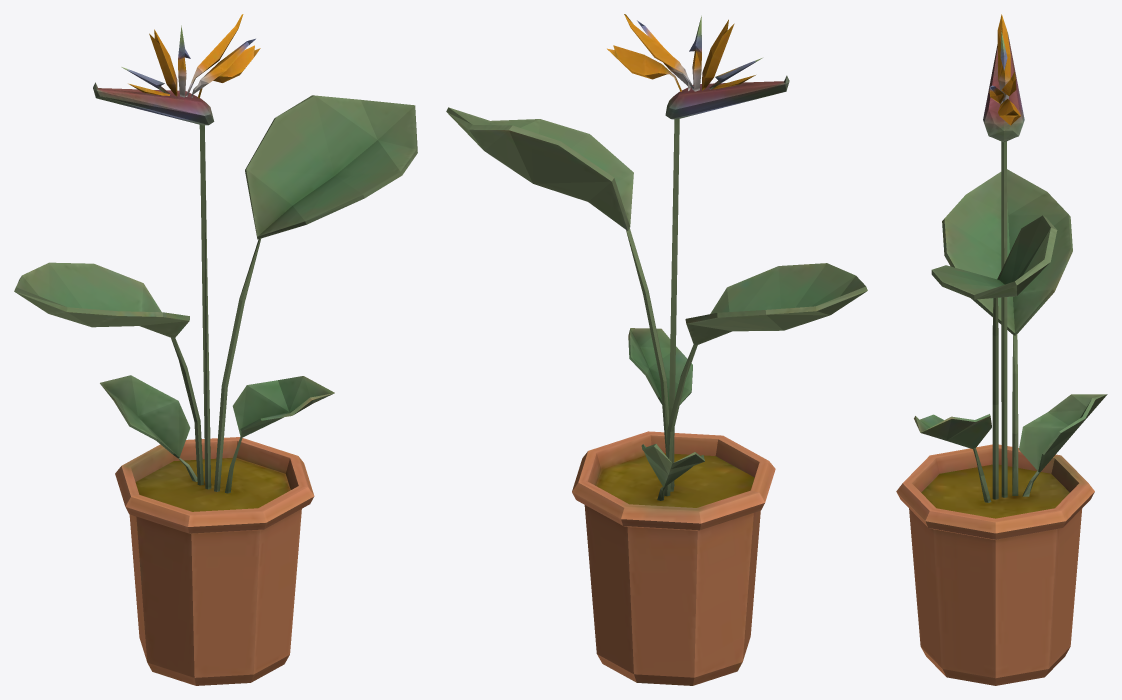
Rendered from birdParadise.glb.
3 renders of one model, left to right at view 1: azimuth 30°, elevation 25°; view 2: azimuth 150°, elevation 25°; view 3: azimuth 270°, elevation 25°, orthographic. The views are drawn at different scales.
Parts seen in each view (by area): view 1: BirdsOfParadisePottedPlant_mesh; view 2: BirdsOfParadisePottedPlant_mesh; view 3: BirdsOfParadisePottedPlant_mesh.
Boxes of the visible parts, left/top/right/bottom form: BirdsOfParadisePottedPlant_mesh: left=14, top=14, right=417, bottom=685; BirdsOfParadisePottedPlant_mesh: left=446, top=14, right=867, bottom=685; BirdsOfParadisePottedPlant_mesh: left=896, top=14, right=1107, bottom=685.
Size of the model in its own units: 3.58 by 5.37 by 1.67.
Materials: 1 (1 with a texture image).
